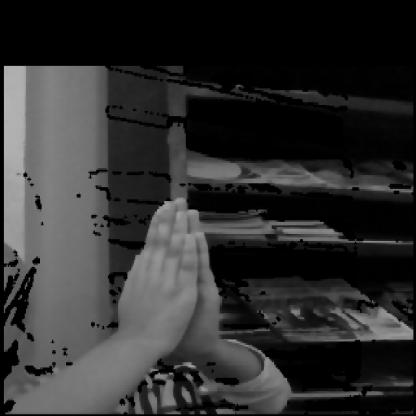namaste: (95, 187, 259, 387)
